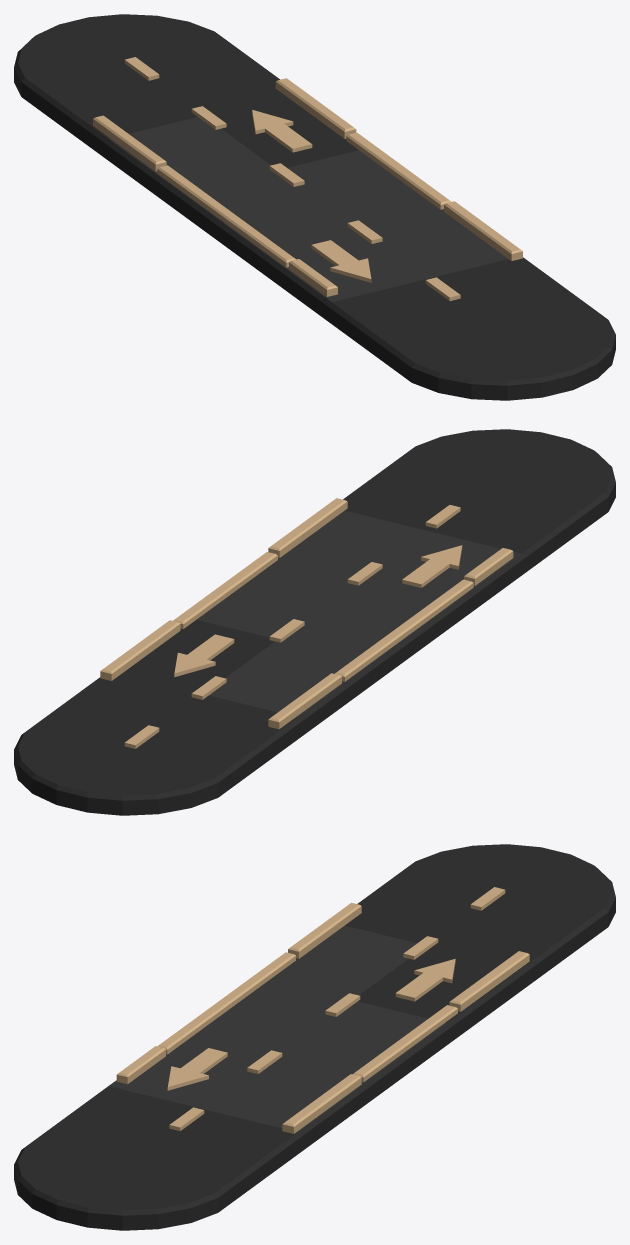
The model's file is RoadVarThree (1).fbx.
The picture shows the model from 3 angles, top to bottom: view 1: azimuth 30°, elevation 25°; view 2: azimuth 150°, elevation 25°; view 3: azimuth 330°, elevation 25°; orthographic projection.
Visible parts, largest first — view 1: Cylinder.024; view 2: Cylinder.024; view 3: Cylinder.024.
Boxes of the visible parts, x1,y1,x2,y2 form: Cylinder.024: (14, 14, 615, 400); Cylinder.024: (14, 429, 615, 815); Cylinder.024: (14, 844, 615, 1230).
Size of the model in its own units: 83 by 11.01 by 355.
